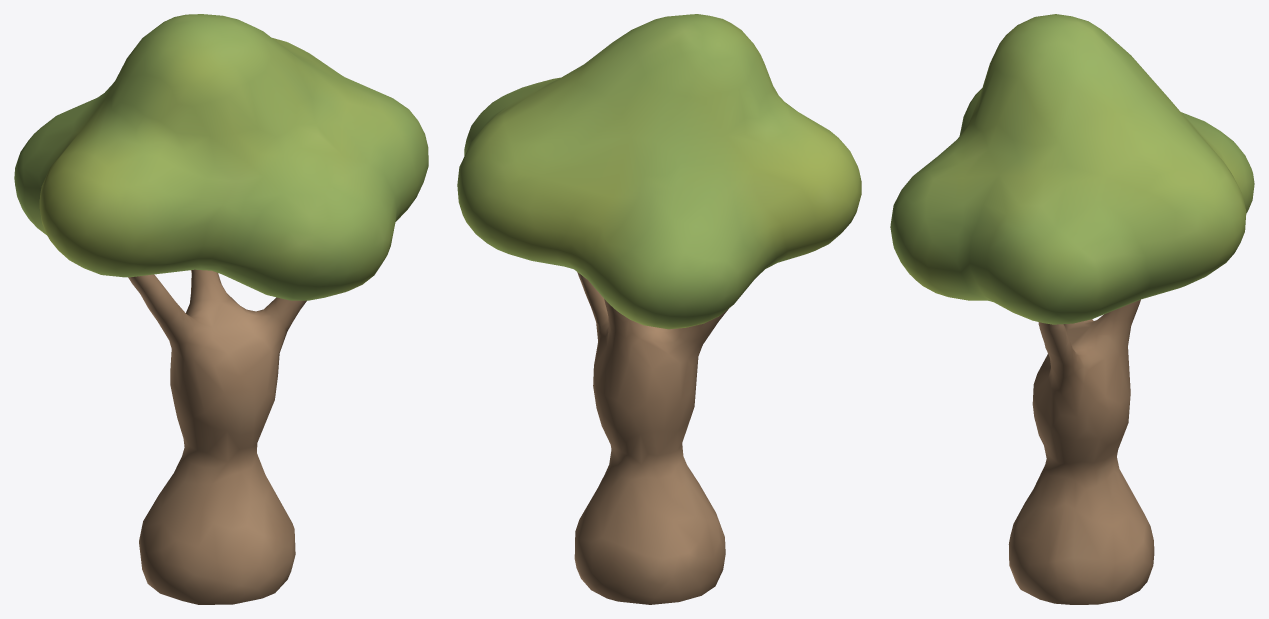
Rendered from tree0.glb.
3 renders of one model, left to right at view 1: azimuth 30°, elevation 25°; view 2: azimuth 150°, elevation 25°; view 3: azimuth 270°, elevation 25°, orthographic. The views are drawn at different scales.
Visible parts, largest first — view 1: canopy, body; view 2: canopy, body; view 3: canopy, body.
Boxes of the visible parts, x1=… form: canopy: x1=14, y1=14, x2=428, y2=300; body: x1=128, y1=269, x2=306, y2=604; canopy: x1=457, y1=14, x2=861, y2=329; body: x1=574, y1=272, x2=728, y2=604; canopy: x1=890, y1=14, x2=1254, y2=324; body: x1=1008, y1=299, x2=1154, y2=604.
Size of the model in its own units: 3.18 by 4.68 by 2.79.
